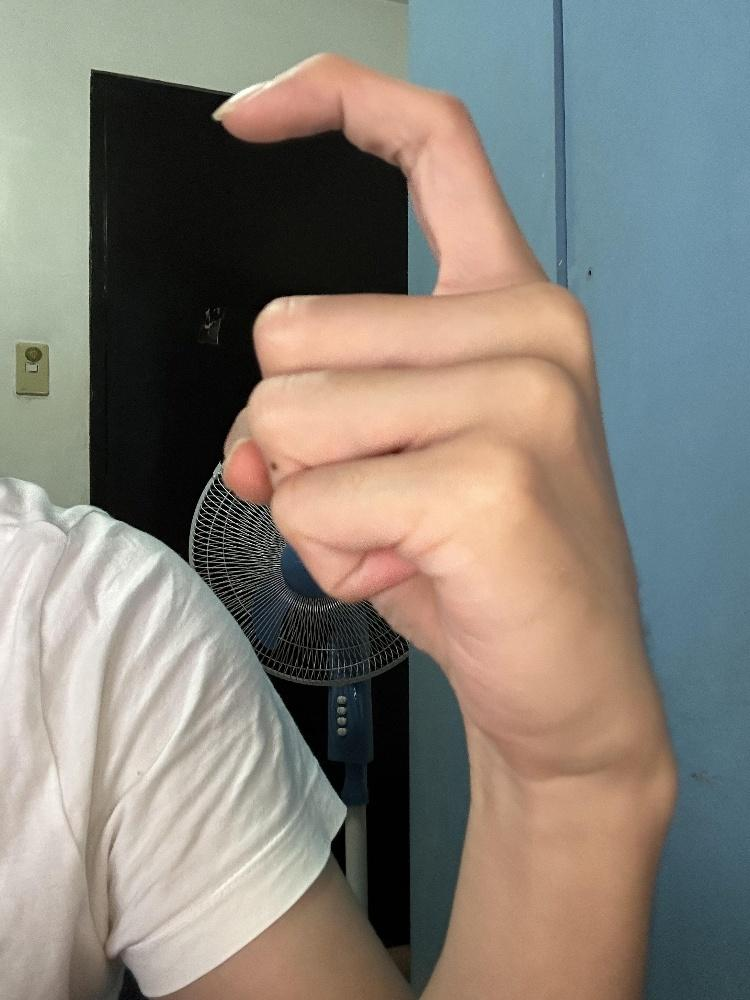x: (204, 44, 666, 786)
